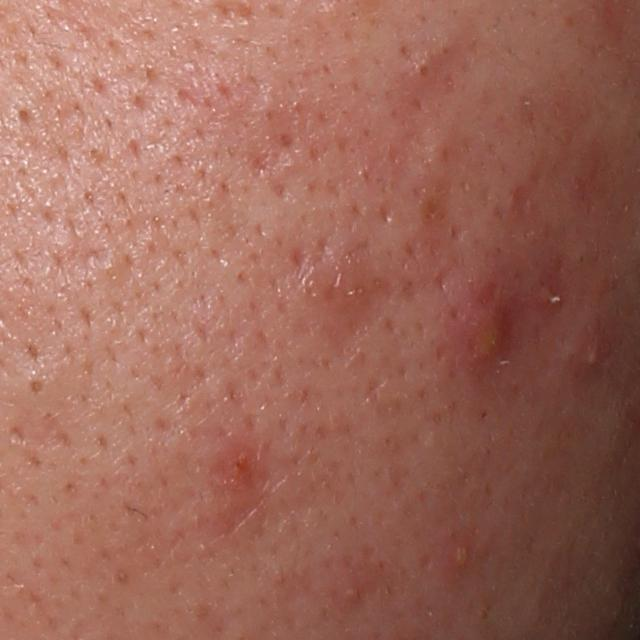comedo: (15, 364, 62, 408), (8, 104, 37, 135), (411, 55, 434, 84)
papule: (437, 285, 520, 377), (212, 449, 266, 513)
pustule: (575, 342, 607, 373)
